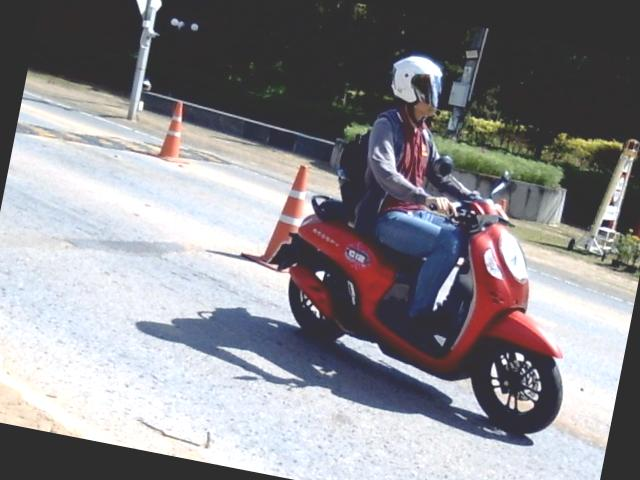helmet: (388, 51, 443, 114)
motor: (271, 195, 562, 432)
person: (354, 55, 477, 336)
